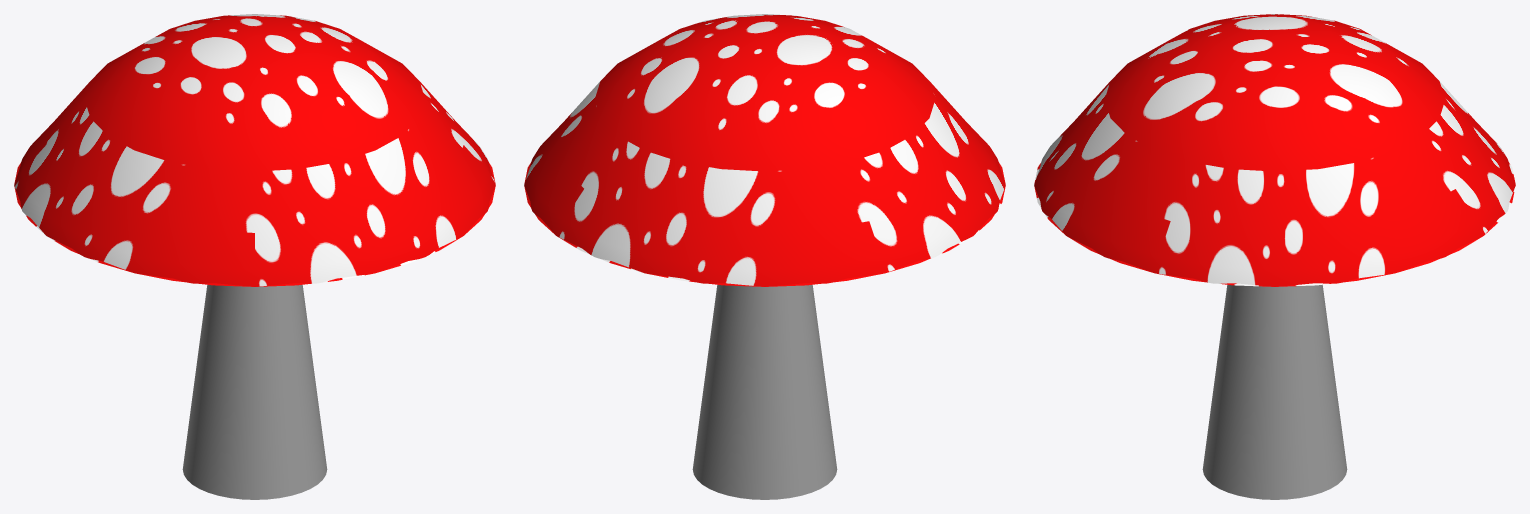
File: mushroom.fbx
The picture shows the model from 3 angles, left to right: view 1: azimuth 30°, elevation 25°; view 2: azimuth 150°, elevation 25°; view 3: azimuth 270°, elevation 25°; orthographic projection.
Parts seen in each view (by area): view 1: mushroom_hat, Cone; view 2: mushroom_hat, Cone; view 3: mushroom_hat, Cone.
Boxes of the visible parts, bbox=[...] form: mushroom_hat: bbox=[14, 14, 495, 286]; Cone: bbox=[182, 284, 327, 499]; mushroom_hat: bbox=[524, 14, 1005, 286]; Cone: bbox=[692, 284, 837, 499]; mushroom_hat: bbox=[1034, 14, 1515, 286]; Cone: bbox=[1202, 284, 1347, 499].
Size of the model in its own units: 200 by 199 by 200.
Materials: 2 (1 with a texture image).
